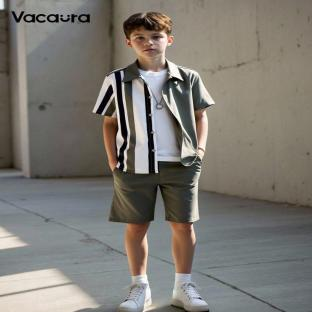Human: (93, 12, 214, 312)
